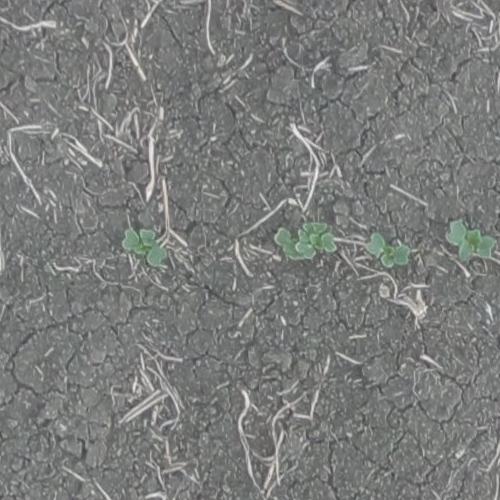clumped: (275, 227, 339, 260)
isolated: (443, 220, 494, 263), (122, 227, 162, 268), (364, 234, 408, 268)
